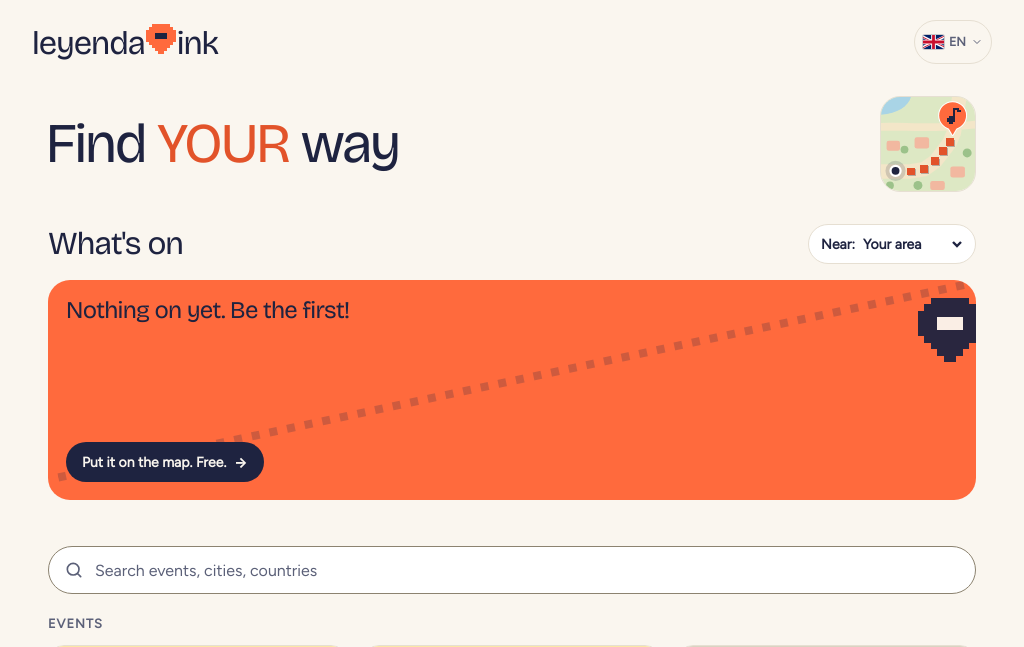
home search › Esc and the x button clear the query and keep focus in the field
In the search field: (512, 570) [48, 546, 976, 594], type "spain"
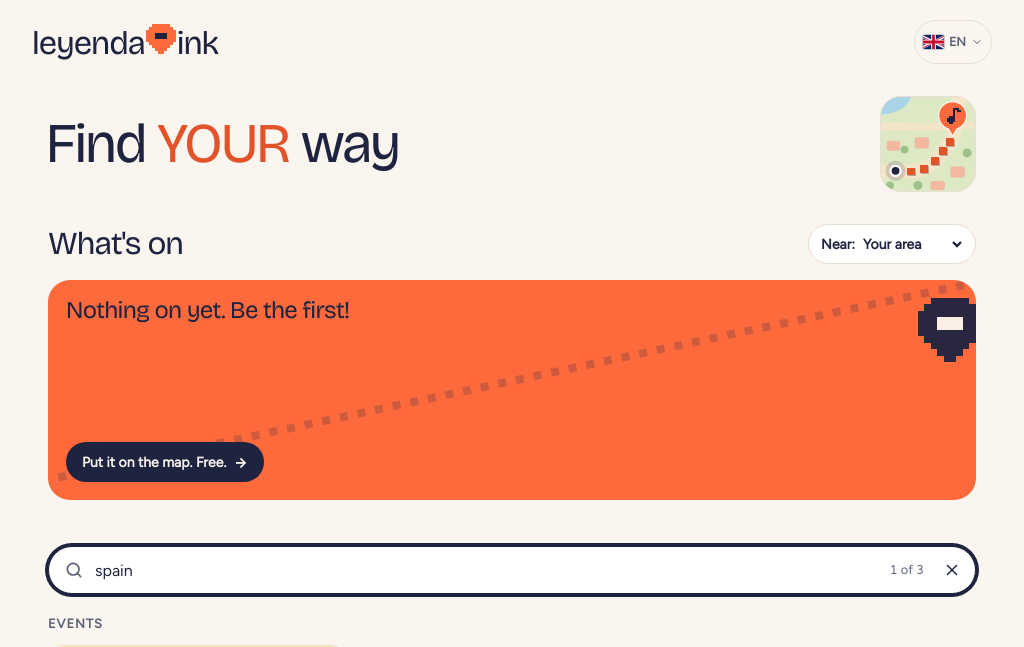
Press Escape
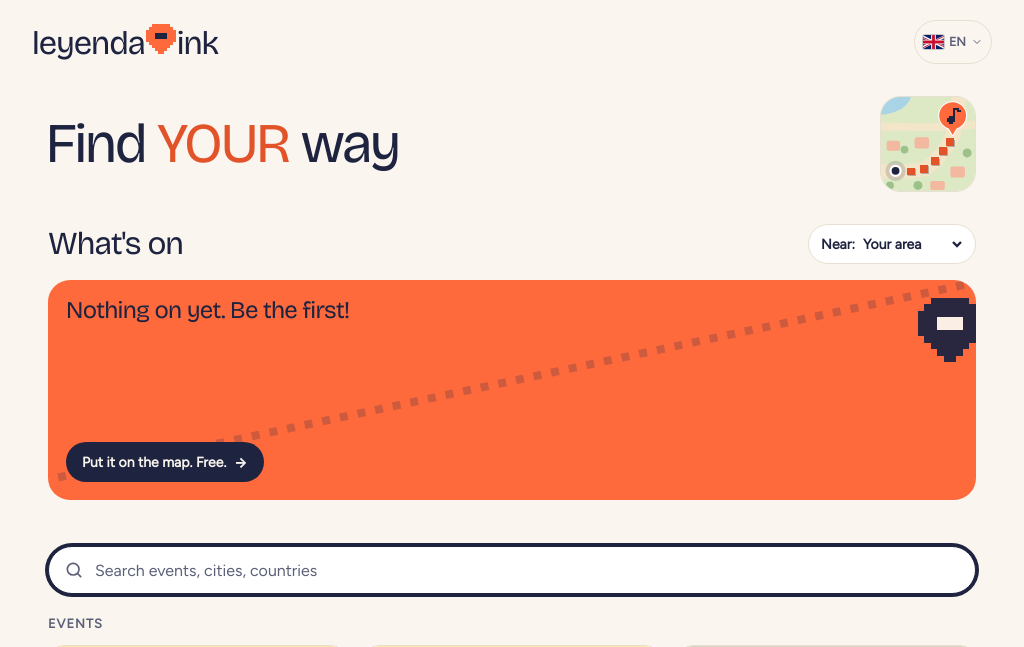
expect the search field is empty: met
In the search field: (512, 570) [48, 546, 976, 594], type "spain"
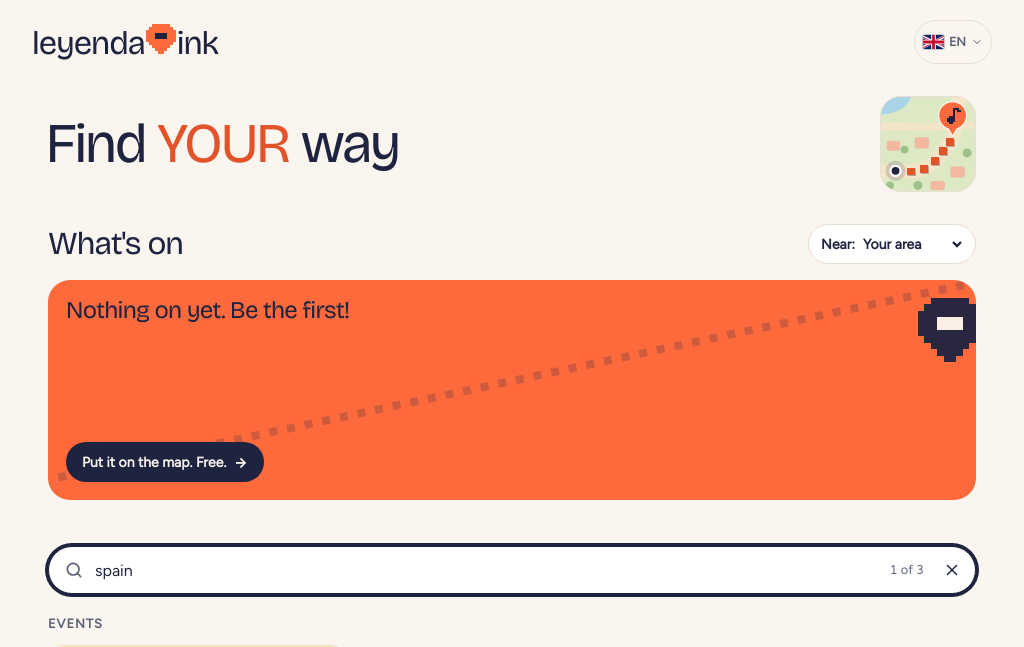
Click the button named "Clear search": (952, 570) [930, 548, 974, 592]
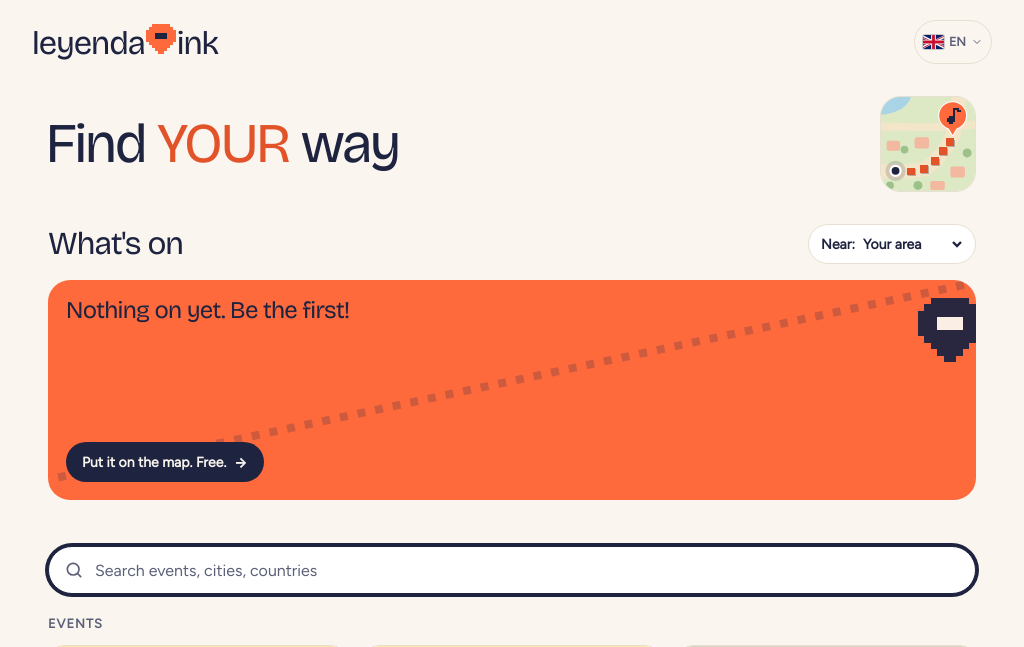
expect the search field is empty: met, box [48, 546, 976, 594]
